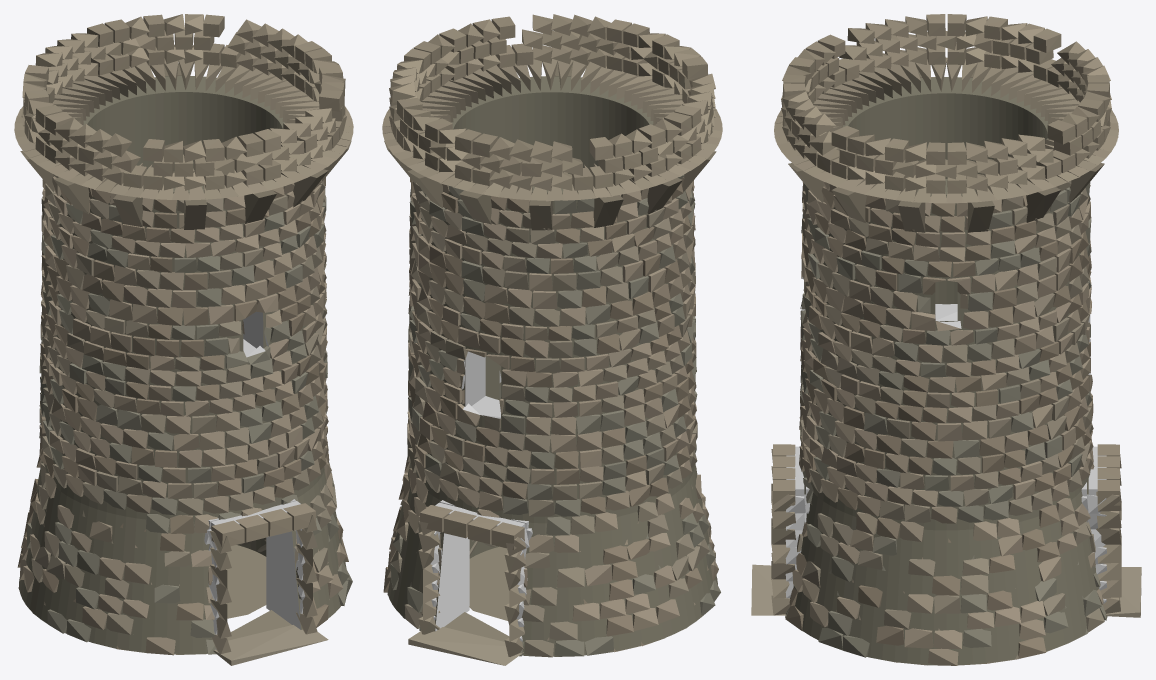
Rendered from Tour_Genoise_LOD2.fbx.
3 renders of one model, left to right at view 1: azimuth 30°, elevation 25°; view 2: azimuth 150°, elevation 25°; view 3: azimuth 270°, elevation 25°, orthographic.
Visible parts, largest first — view 1: Maconnerie_Irreguliere_LOD2, Couronnement_14_Consoles_LOD2, Joints_Fut_Interieur_LOD2, Encadrements_Seuils_LOD2, Sol_Voute_Passage_LOD2, Pierres_Epaisseur_Passage_LOD2; view 2: Maconnerie_Irreguliere_LOD2, Couronnement_14_Consoles_LOD2, Joints_Fut_Interieur_LOD2, Encadrements_Seuils_LOD2, Sol_Voute_Passage_LOD2, Pierres_Epaisseur_Passage_LOD2; view 3: Maconnerie_Irreguliere_LOD2, Couronnement_14_Consoles_LOD2, Joints_Fut_Interieur_LOD2, Encadrements_Seuils_LOD2, Pierres_Epaisseur_Passage_LOD2.
Boxes of the visible parts, x1,y1,x2,y2 form: Maconnerie_Irreguliere_LOD2: (17,174,352,655); Couronnement_14_Consoles_LOD2: (14,14,353,229); Joints_Fut_Interieur_LOD2: (19,76,347,654); Encadrements_Seuils_LOD2: (210,503,328,665); Sol_Voute_Passage_LOD2: (226,545,291,640); Pierres_Epaisseur_Passage_LOD2: (204,499,305,649); Maconnerie_Irreguliere_LOD2: (383,175,720,657); Couronnement_14_Consoles_LOD2: (382,14,722,230); Joints_Fut_Interieur_LOD2: (387,76,717,656); Encadrements_Seuils_LOD2: (408,505,526,665); Sol_Voute_Passage_LOD2: (444,546,509,641); Pierres_Epaisseur_Passage_LOD2: (430,500,532,641); Maconnerie_Irreguliere_LOD2: (785,77,1107,665); Couronnement_14_Consoles_LOD2: (774,14,1118,232); Joints_Fut_Interieur_LOD2: (793,77,1099,665); Encadrements_Seuils_LOD2: (751,444,1141,617); Pierres_Epaisseur_Passage_LOD2: (785,446,1106,603).
Bounding box in the file's own units: 740 × 1213 × 837.
